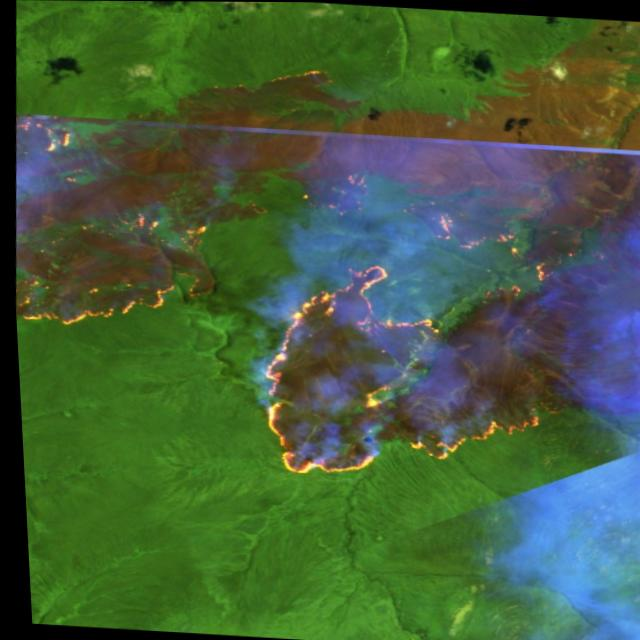fire: (234, 162, 571, 492), (5, 116, 217, 341)
